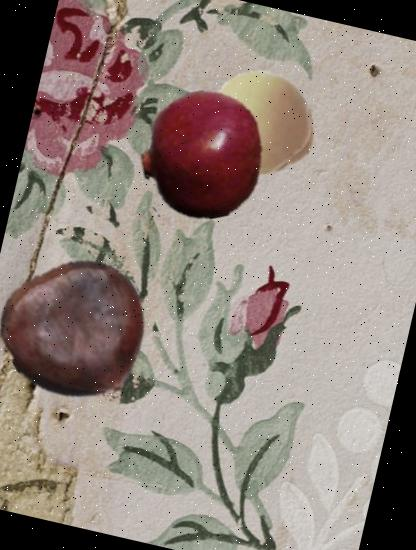Chestnut: (0, 244, 165, 419)
Peach: (196, 57, 326, 188)
Pomegranate: (124, 78, 278, 234)
